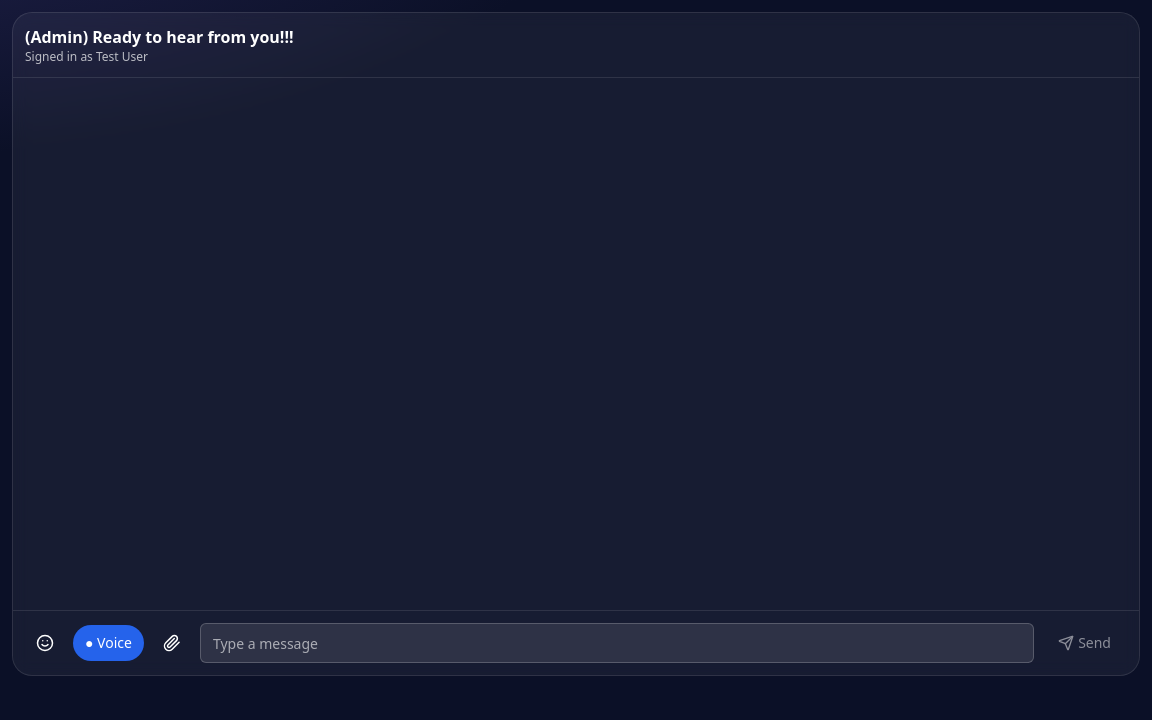
Test: UserChatPage › sends a text message
Type "Hello there" into the field with placeholder "Type a message".
click(617, 643); type("Hello there")  # box [200,623,1034,663]
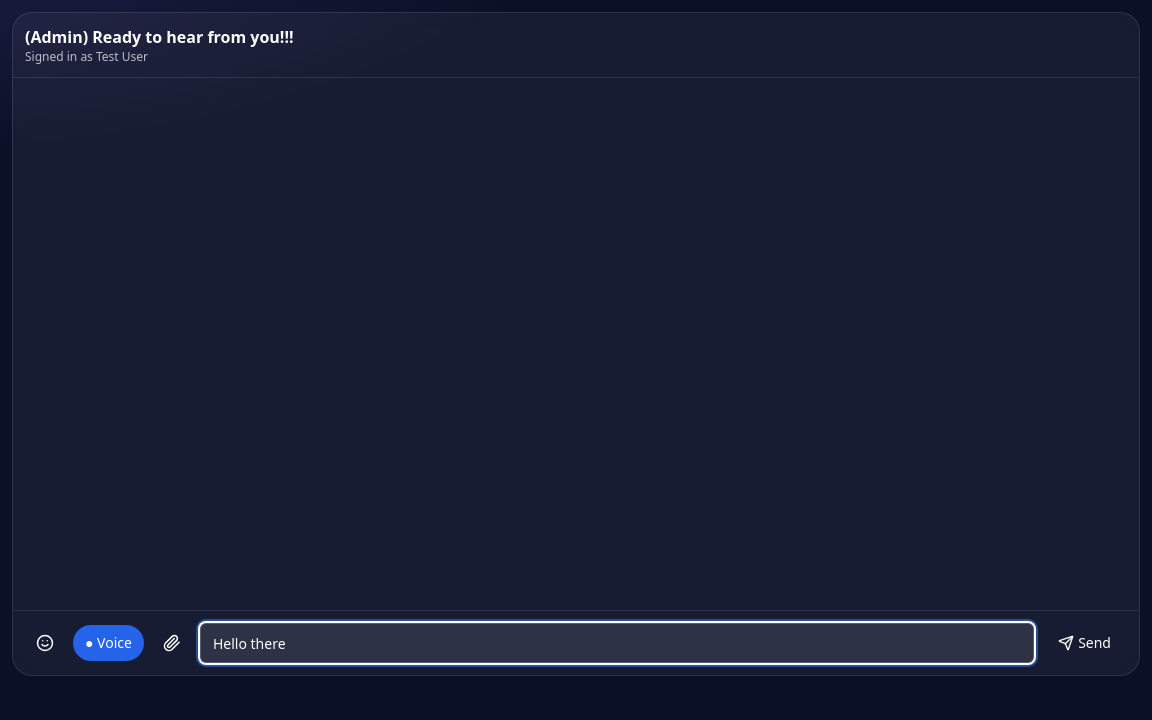
Click the button "Send".
click(1085, 643)  # box [1042,623,1127,663]
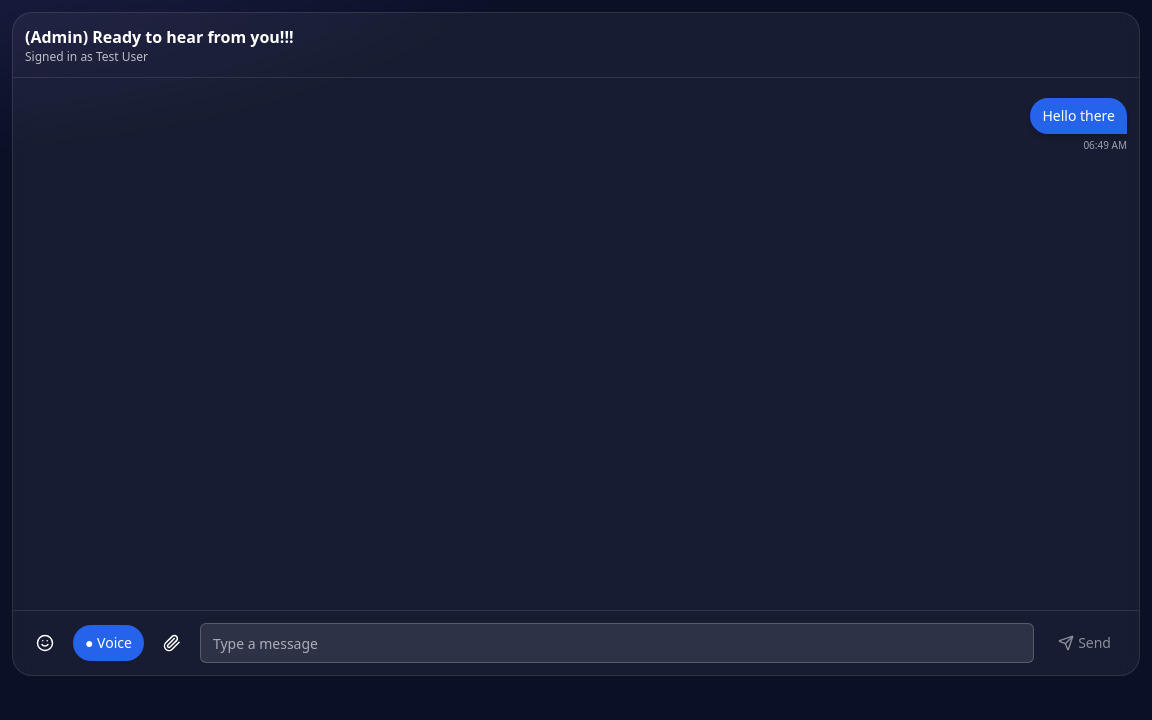
Expected: the text "Hello there" is shown, [1042,106,1115,125]
